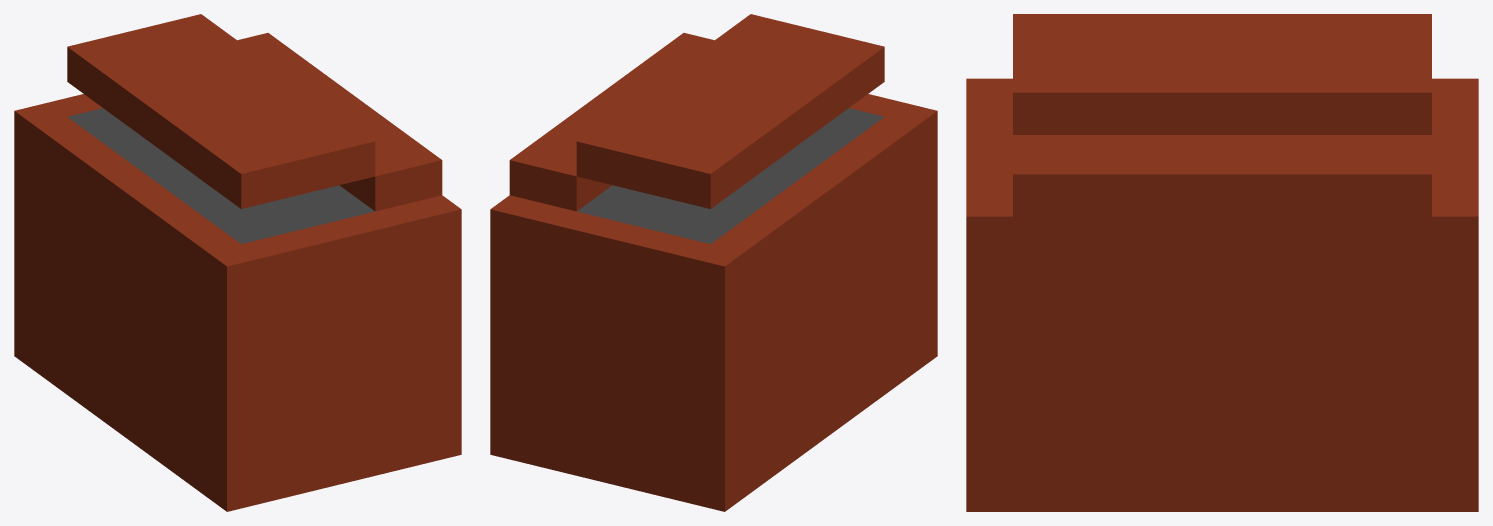
File: contenedor_basura_rojo.obj
3 views of the same model, side by side, from view 1: azimuth 30°, elevation 25°; view 2: azimuth 150°, elevation 25°; view 3: azimuth 270°, elevation 25° (orthographic). The views are drawn at different scales.
Bounding box in the file's own units: 0.7 × 0.9 × 1.1.
1 material, 1 textured.
